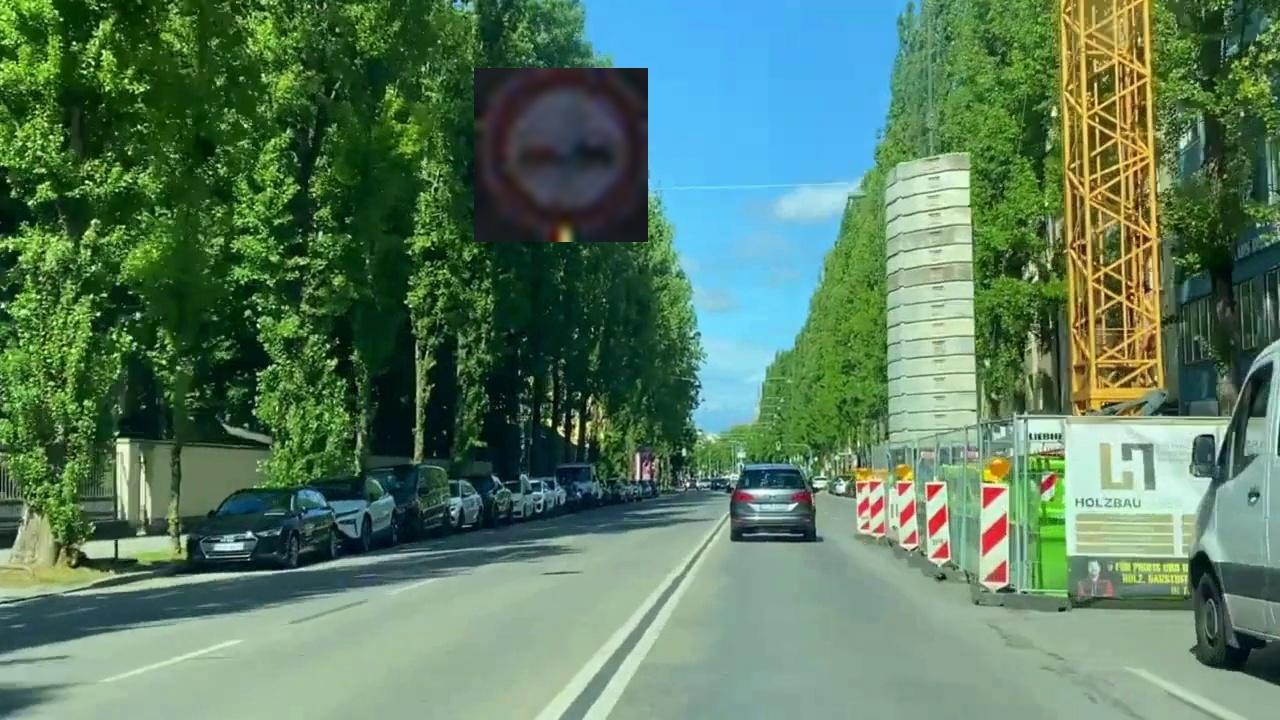No passing: (474, 68, 648, 242)
